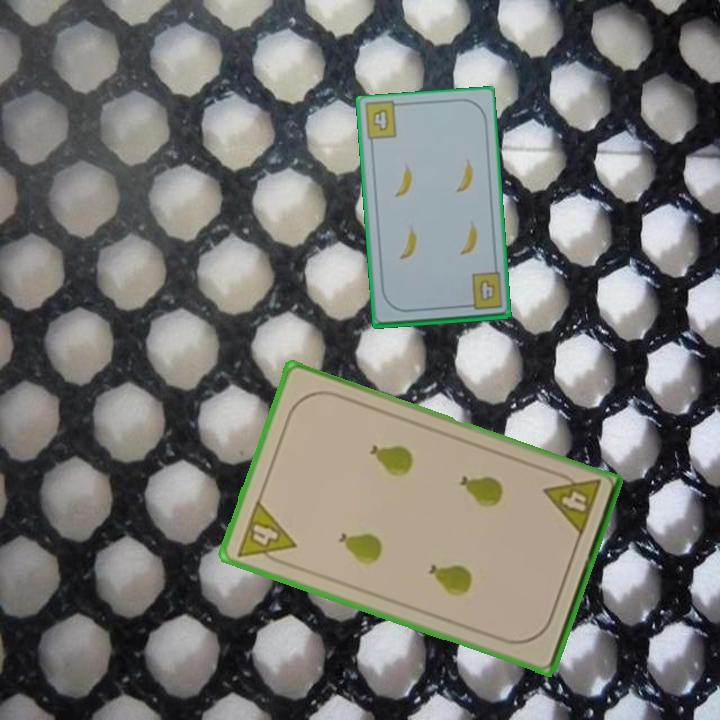4b: (461, 269, 505, 313), (369, 105, 391, 133)
4p: (233, 496, 299, 570), (540, 467, 604, 539)
